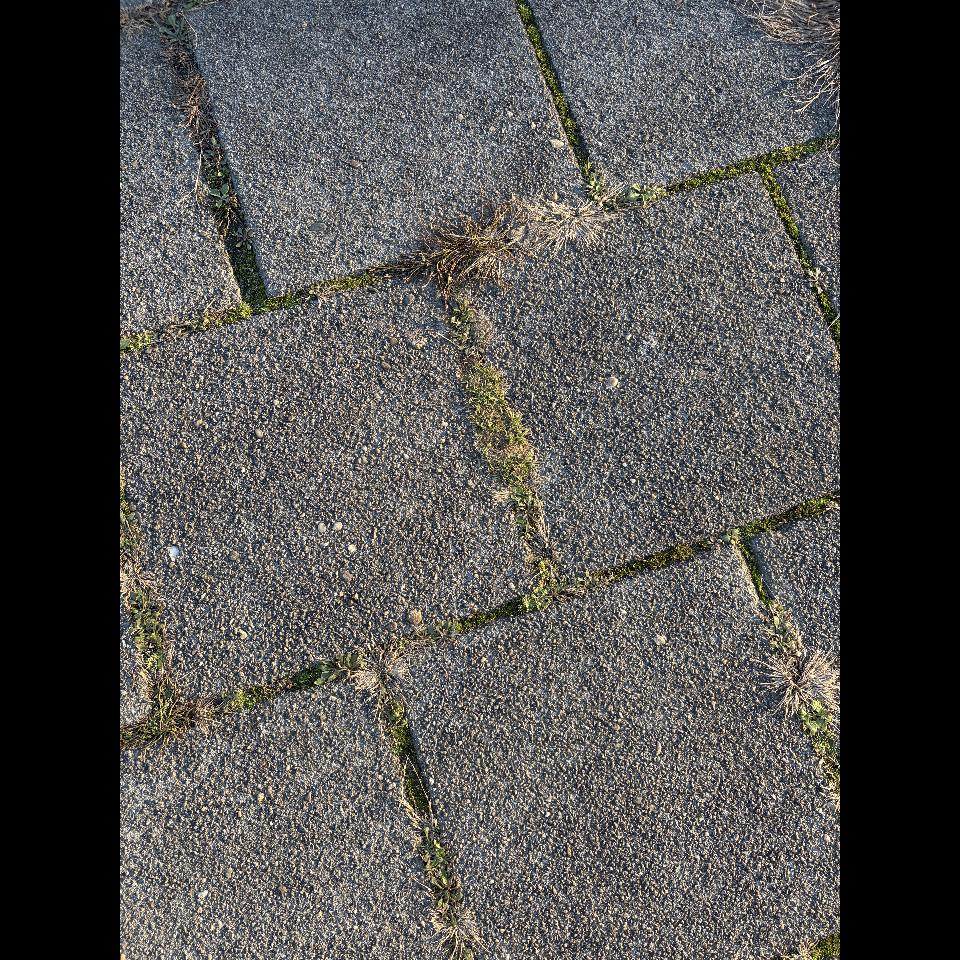weed: (363, 209, 535, 314), (461, 365, 535, 484), (770, 631, 840, 742), (351, 644, 415, 724), (537, 201, 619, 251), (134, 696, 212, 742), (127, 589, 167, 670), (431, 908, 489, 956), (179, 74, 214, 146), (419, 822, 454, 877), (120, 545, 154, 595), (312, 653, 363, 685), (432, 876, 463, 924), (766, 621, 802, 662), (515, 494, 545, 533), (800, 700, 832, 736), (451, 324, 482, 356), (160, 14, 189, 47), (756, 599, 791, 625), (120, 508, 140, 552), (450, 298, 476, 330), (627, 182, 662, 204), (522, 586, 552, 611), (575, 572, 601, 598), (433, 620, 460, 645), (584, 169, 607, 197), (806, 268, 829, 294), (209, 183, 231, 209), (222, 692, 249, 711), (203, 149, 227, 169), (235, 227, 254, 250), (414, 624, 434, 644), (722, 529, 741, 545), (511, 485, 527, 503), (706, 536, 722, 550), (310, 280, 324, 294), (826, 501, 840, 512), (217, 168, 230, 176)
